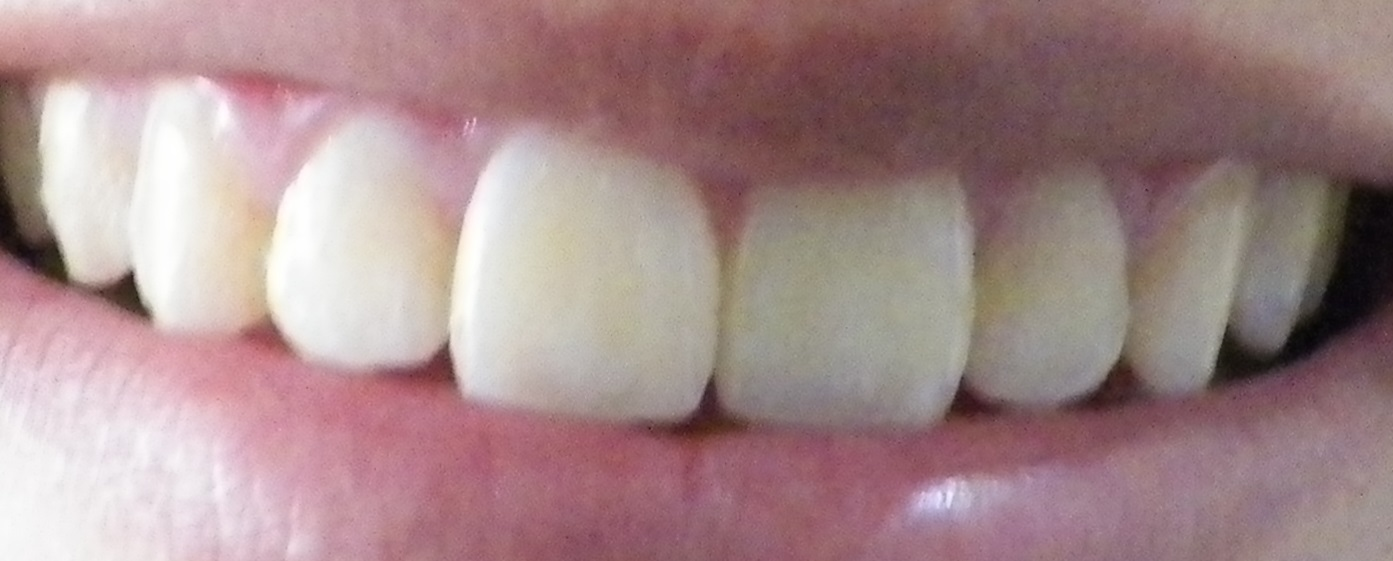boca: (27, 78, 1330, 412)
